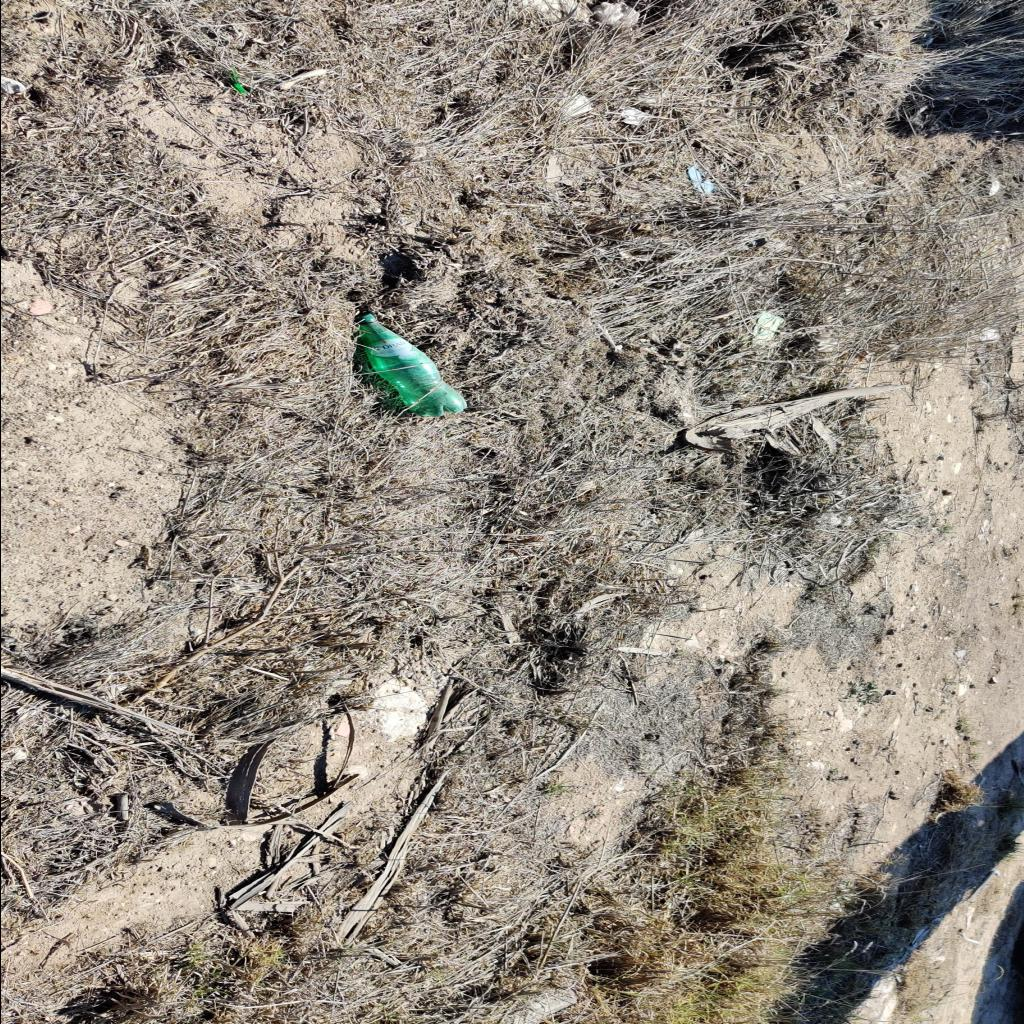Clear plastic bottle: (354, 314, 466, 418)
Other plastic bottle: (230, 66, 246, 96)
Plastic bottle cap: (352, 314, 374, 322)
Plastic film: (591, 2, 637, 28)
Unlabeled litter: (750, 312, 783, 348), (686, 164, 714, 194)
